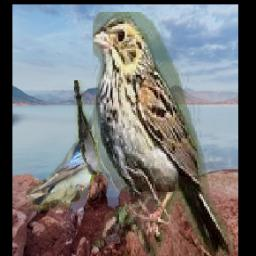Cuckoo: (74, 81, 102, 176)
Sparrow: (93, 12, 234, 256)
Swallow: (26, 137, 97, 213)
